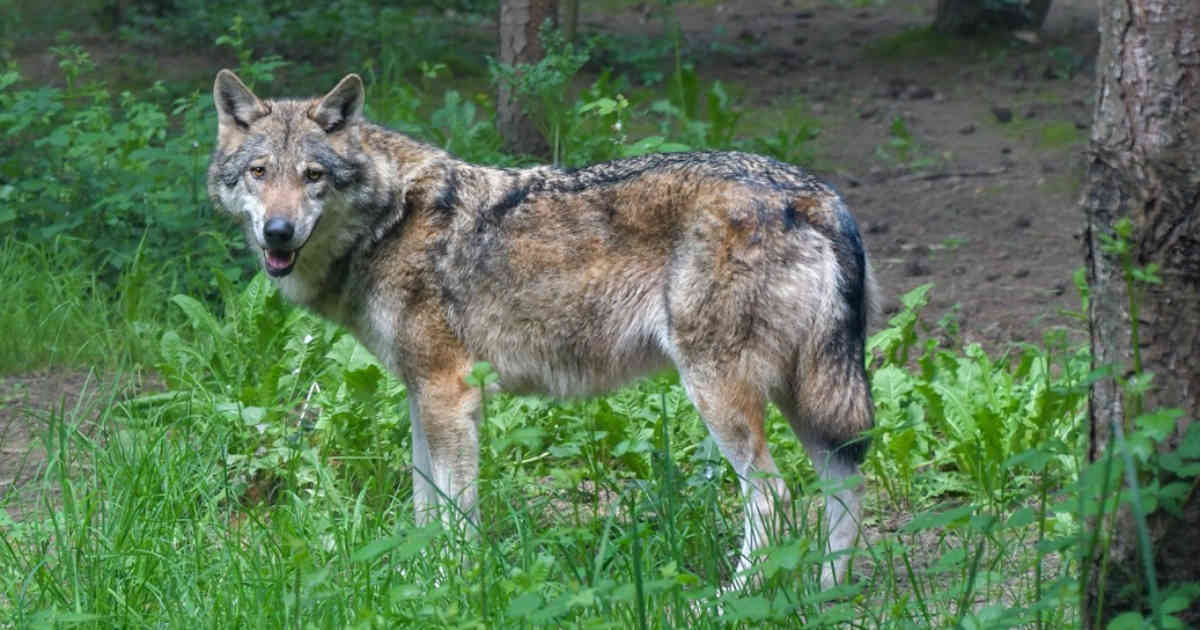Lobo: (154, 76, 961, 572)
